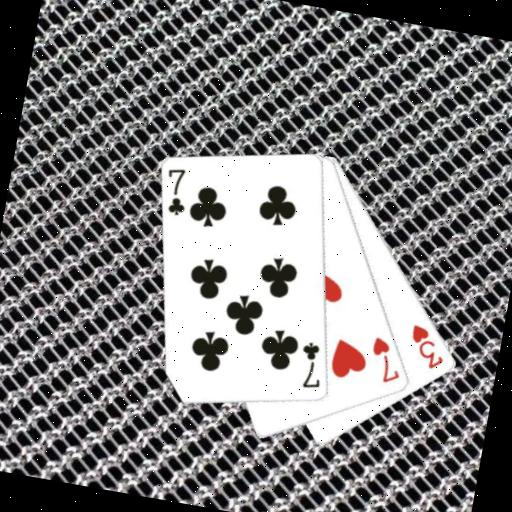3H: (403, 321, 451, 373)
7C: (293, 337, 329, 392), (158, 163, 194, 218)
7H: (364, 332, 408, 387)
